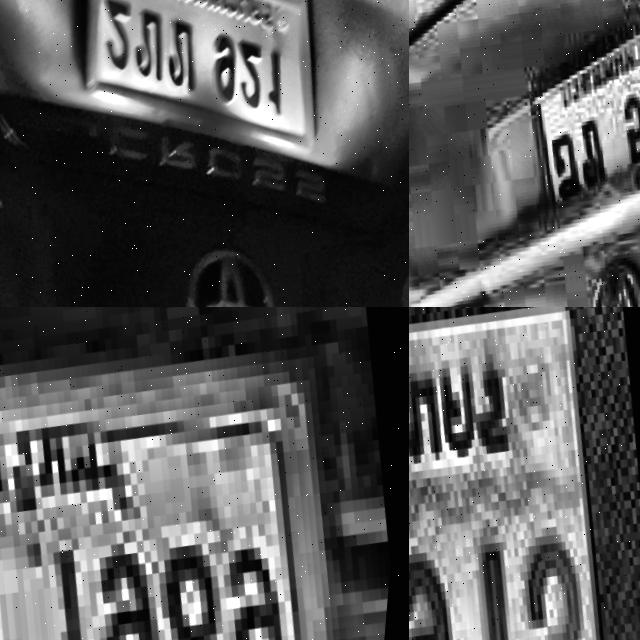license-plate: (0, 307, 409, 640), (409, 307, 640, 640), (48, 0, 349, 194), (505, 0, 640, 235)
